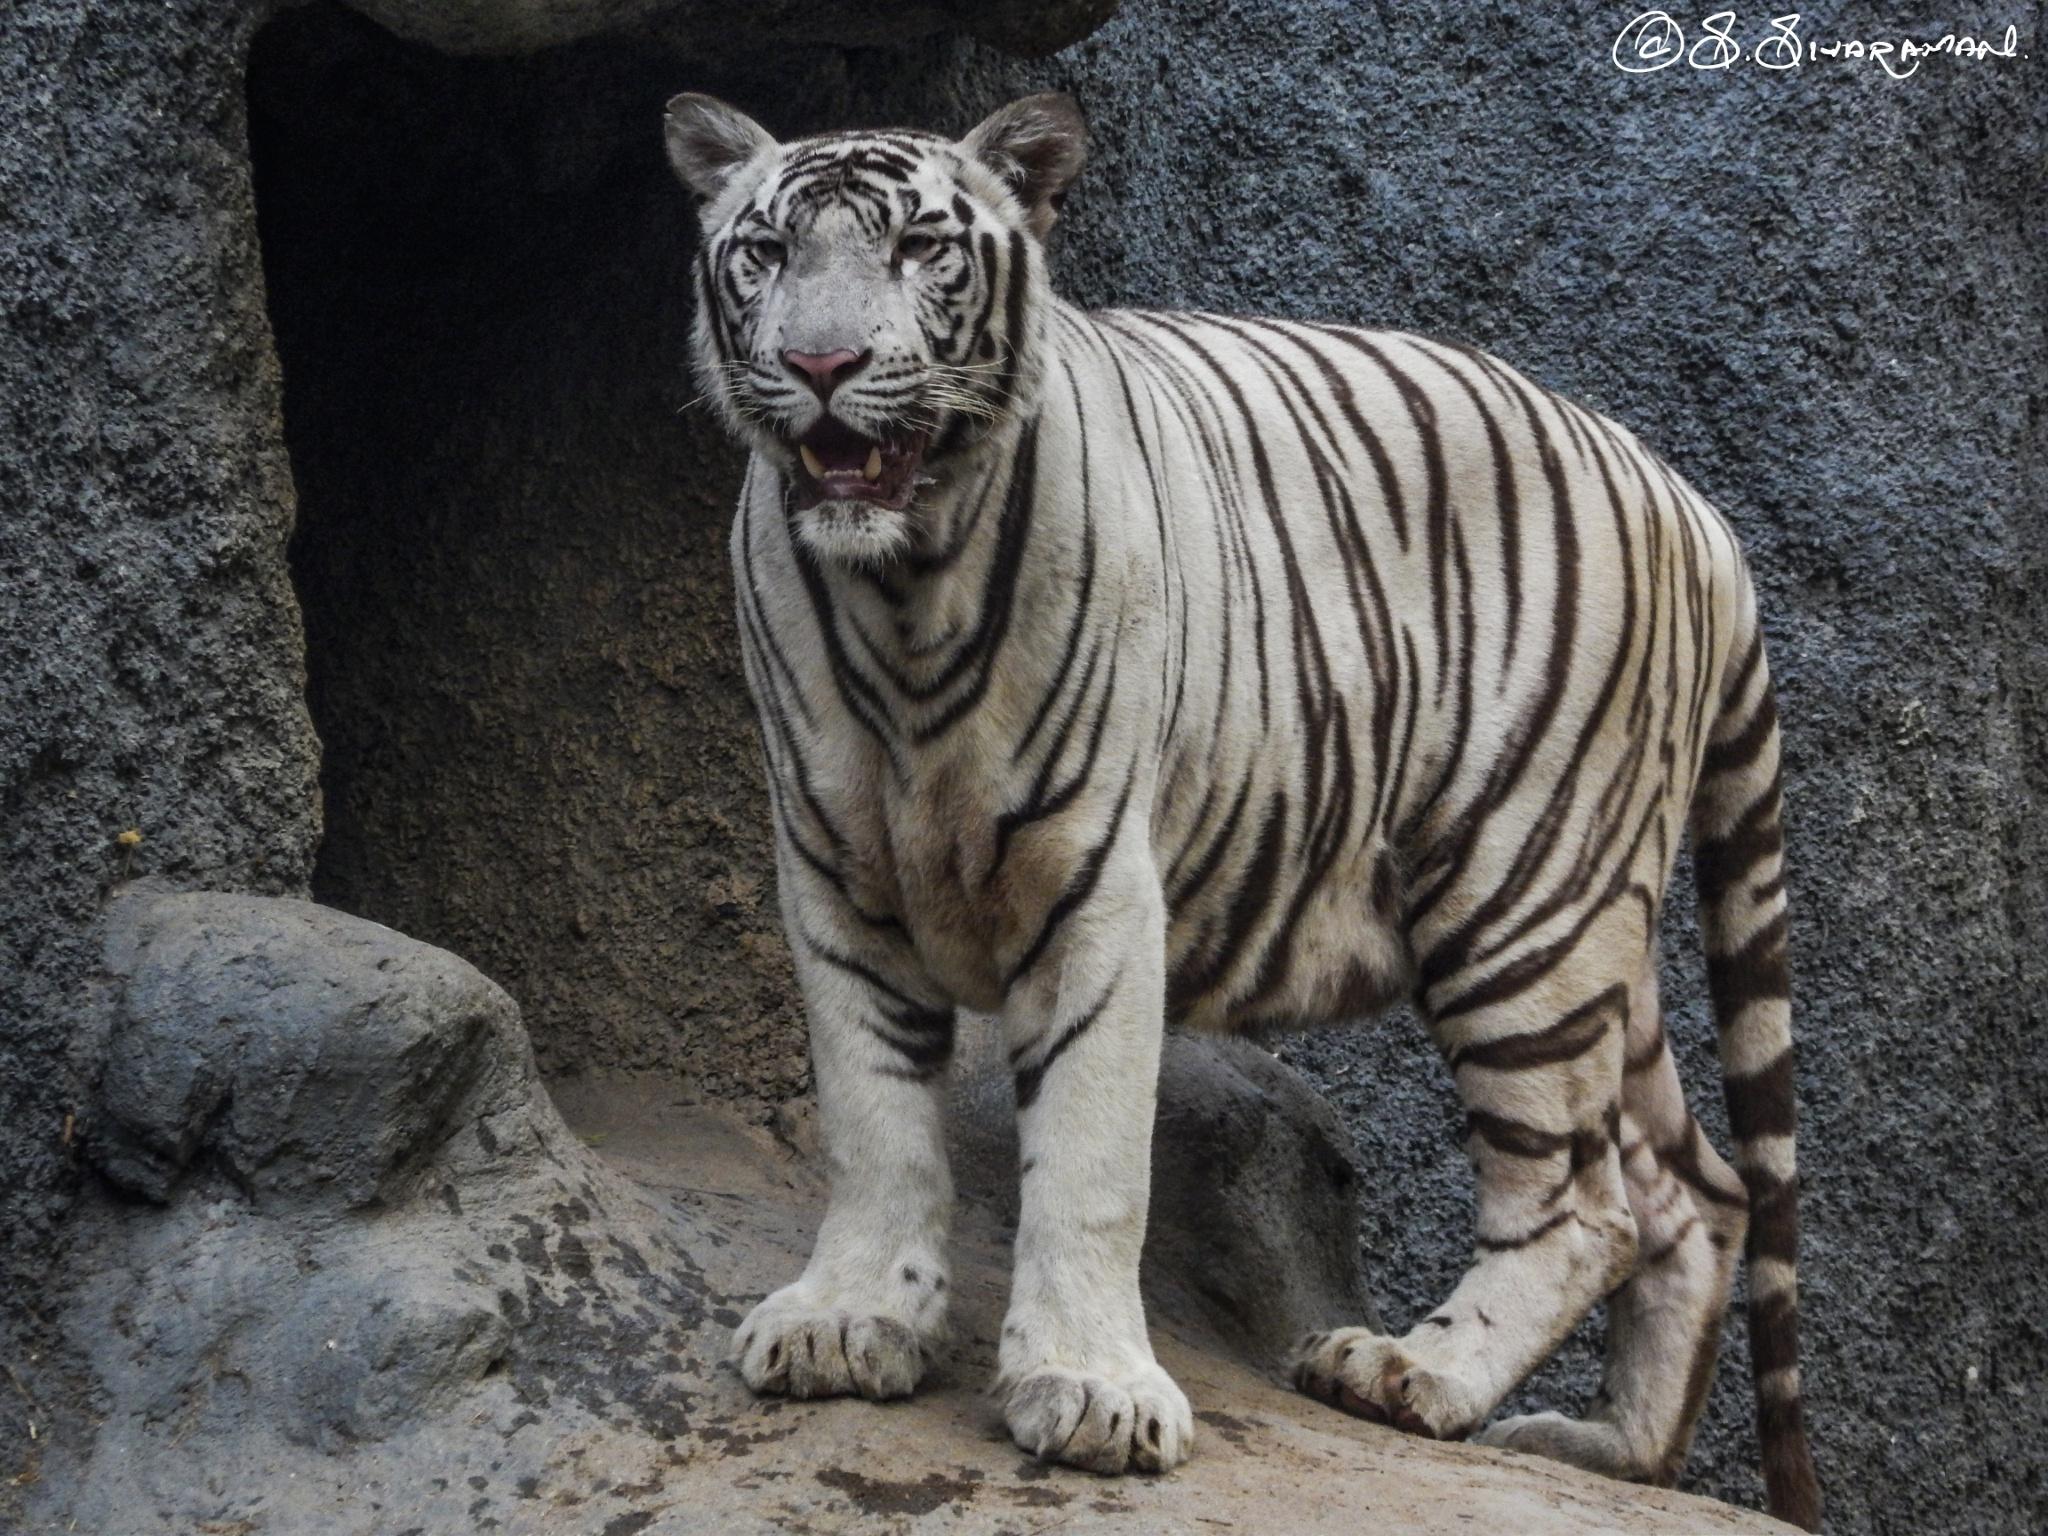tiger: (639, 92, 1856, 1494)
